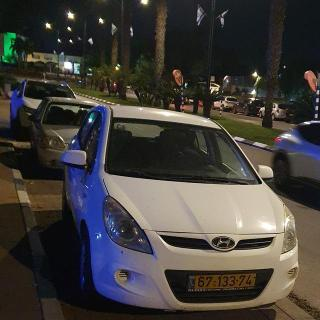LicensePlate: (194, 273, 257, 289)
